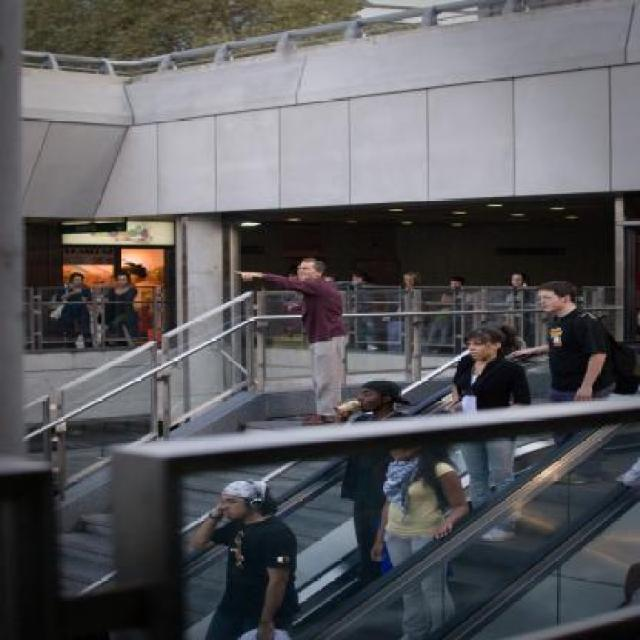stair: (44, 422, 556, 638)
